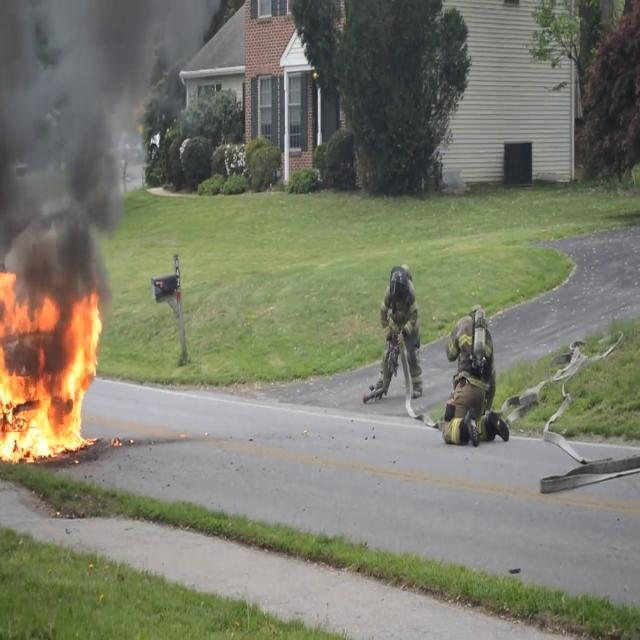Fire: (0, 272, 105, 464)
Smoke: (0, 1, 192, 296)
